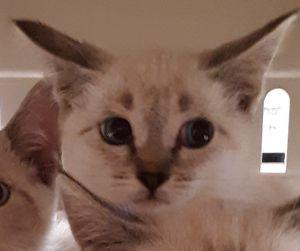siamese: (11, 1, 280, 251)
